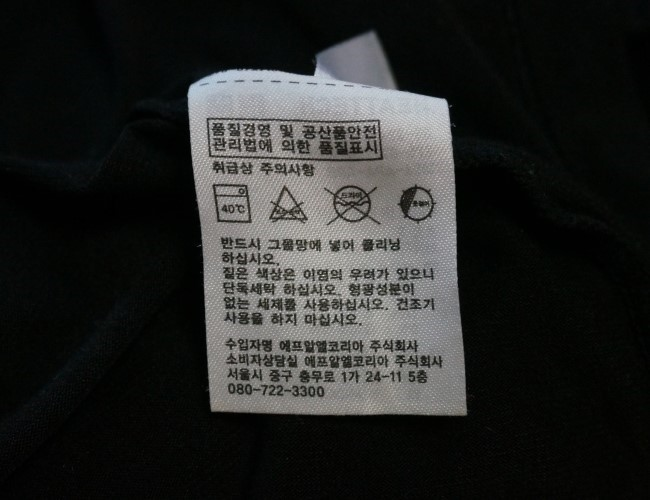KR_hang_dry_in_shade: (395, 181, 440, 229)
KR_no_chlorine_bleach: (267, 186, 311, 228)
KR_no_dry_clean: (331, 182, 377, 228)
KR_wash_40: (207, 179, 254, 227)
